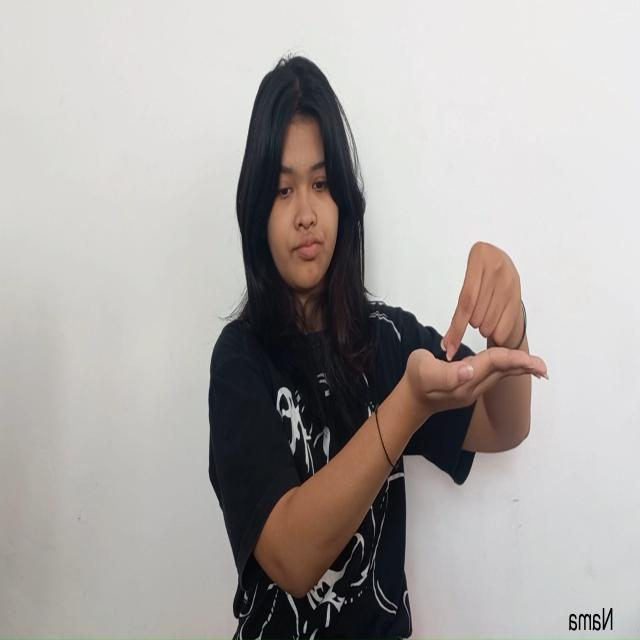Nama -BISINDO-: (404, 240, 550, 419)
